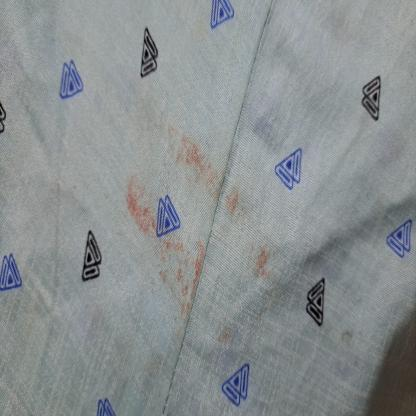spot: (143, 97, 283, 304), (121, 163, 214, 343), (211, 317, 240, 350), (340, 316, 360, 354)
